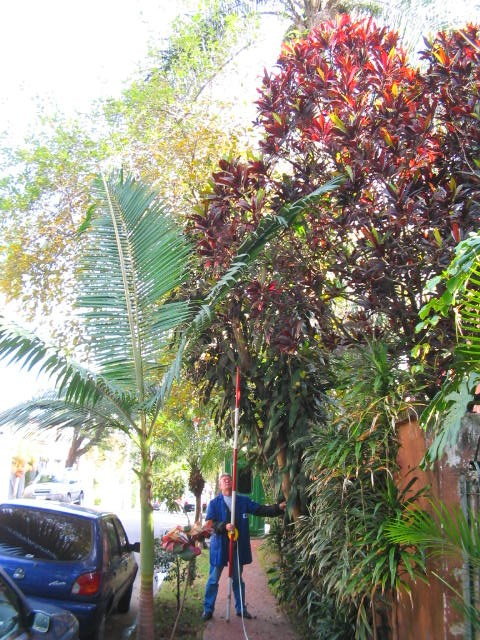stick: (221, 368, 247, 623)
